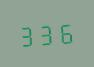six: (57, 19, 75, 45)
three: (18, 21, 36, 47), (38, 20, 56, 46)
